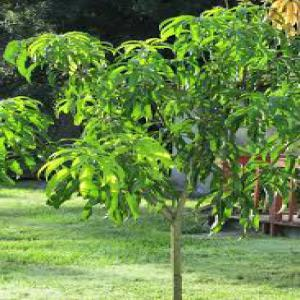Tree: (8, 7, 297, 262)
